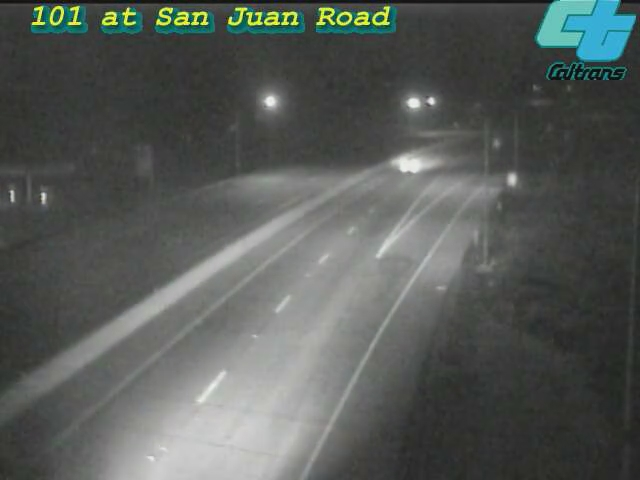vehicle: (374, 124, 454, 204)
